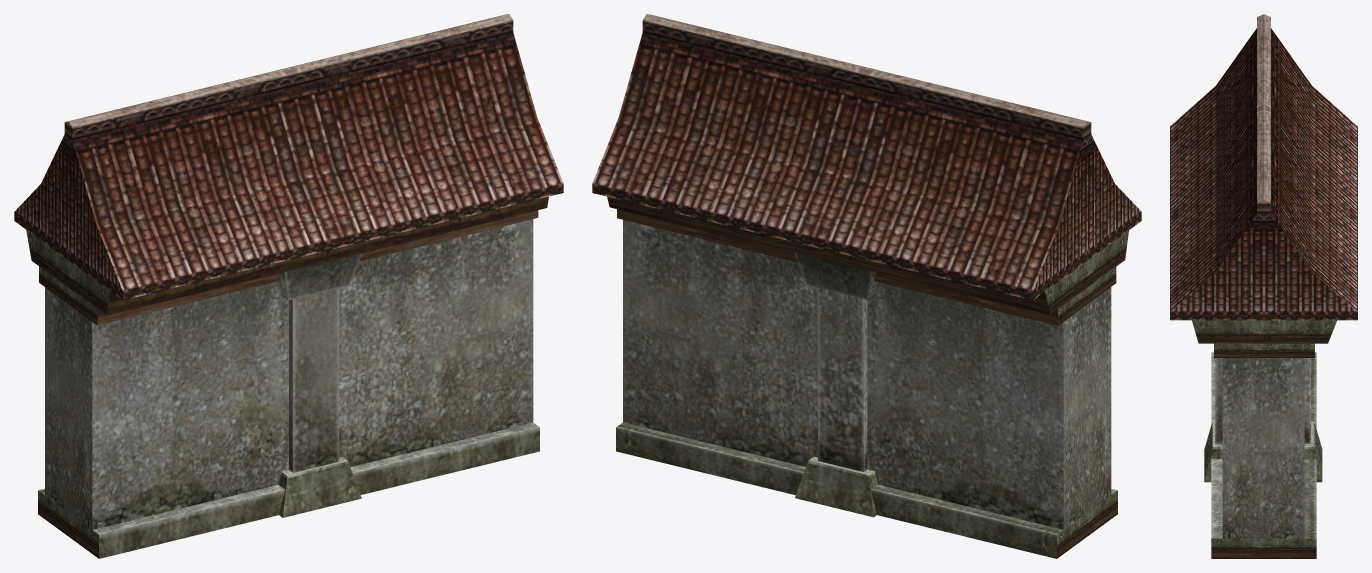
The model's file is a1-038-wall-lin.fbx.
3 renders of one model, left to right at view 1: azimuth 30°, elevation 25°; view 2: azimuth 150°, elevation 25°; view 3: azimuth 270°, elevation 25°, orthographic. The views are drawn at different scales.
Parts seen in each view (by area): view 1: b1-038-wall-lin; view 2: b1-038-wall-lin; view 3: b1-038-wall-lin.
Part boxes in pixels (left/top/right/bottom): b1-038-wall-lin: left=14, top=14, right=563, bottom=558; b1-038-wall-lin: left=592, top=14, right=1141, bottom=558; b1-038-wall-lin: left=1170, top=14, right=1357, bottom=558.
Size of the model in its own units: 5 by 4.5 by 2.13.
